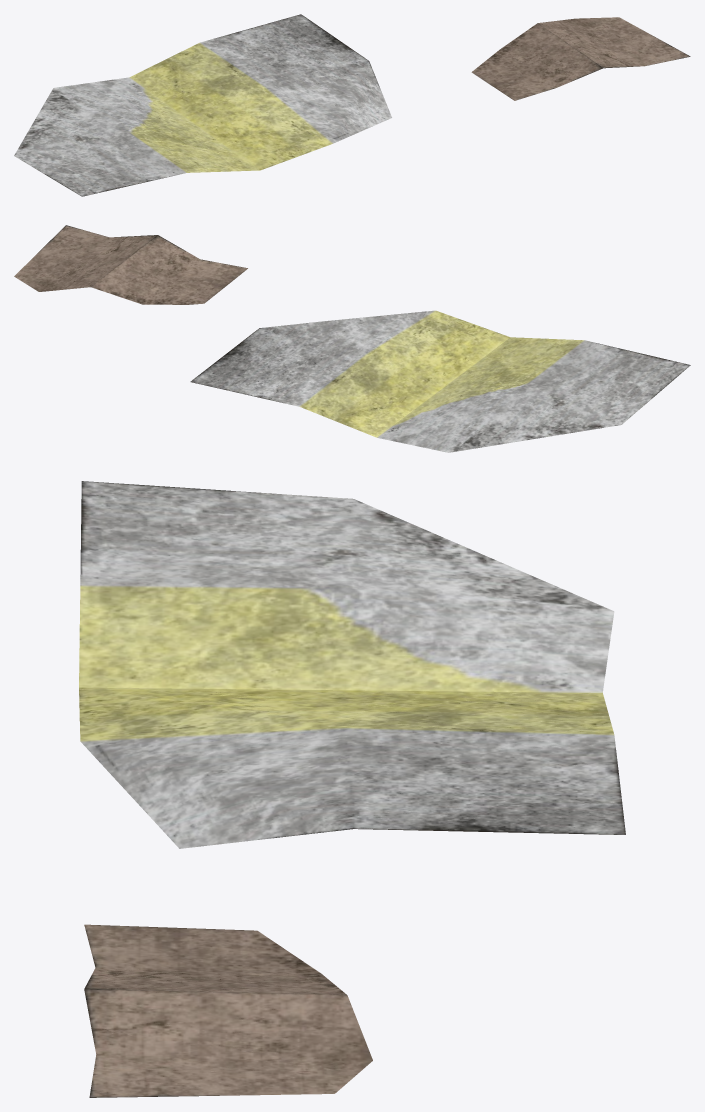
File: Waste paper.fbx
3 views of the same model, one above another, from view 1: azimuth 30°, elevation 25°; view 2: azimuth 150°, elevation 25°; view 3: azimuth 270°, elevation 25° (orthographic). The views are drawn at different scales.
Parts seen in each view (by area): view 1: Paper_02_GEO, Paper_03_GEO; view 2: Paper_02_GEO, Paper_03_GEO; view 3: Paper_02_GEO, Paper_03_GEO.
Boxes of the visible parts, x1,y1,x2,y2 form: Paper_02_GEO: [14, 14, 391, 196]; Paper_03_GEO: [471, 17, 690, 100]; Paper_02_GEO: [190, 310, 690, 452]; Paper_03_GEO: [14, 225, 247, 304]; Paper_02_GEO: [79, 481, 625, 848]; Paper_03_GEO: [84, 924, 372, 1097].
Size of the model in its own units: 0.7222 by 0.0332 by 0.2801.
Materials: 1 (1 with a texture image).
